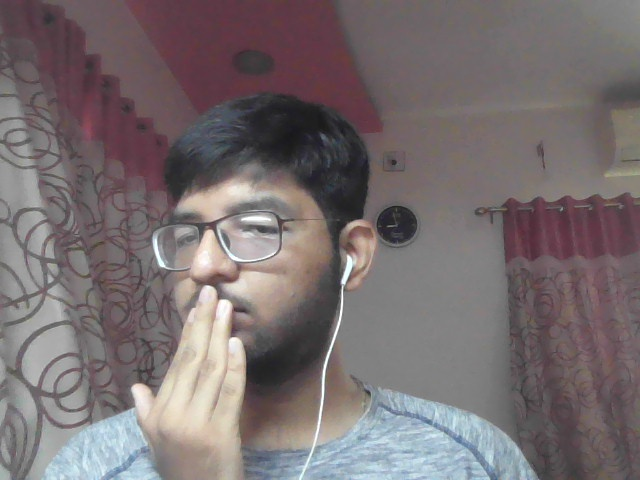આભાર: (120, 279, 268, 479)
